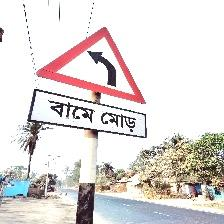Left-Turn: (28, 27, 148, 140)
